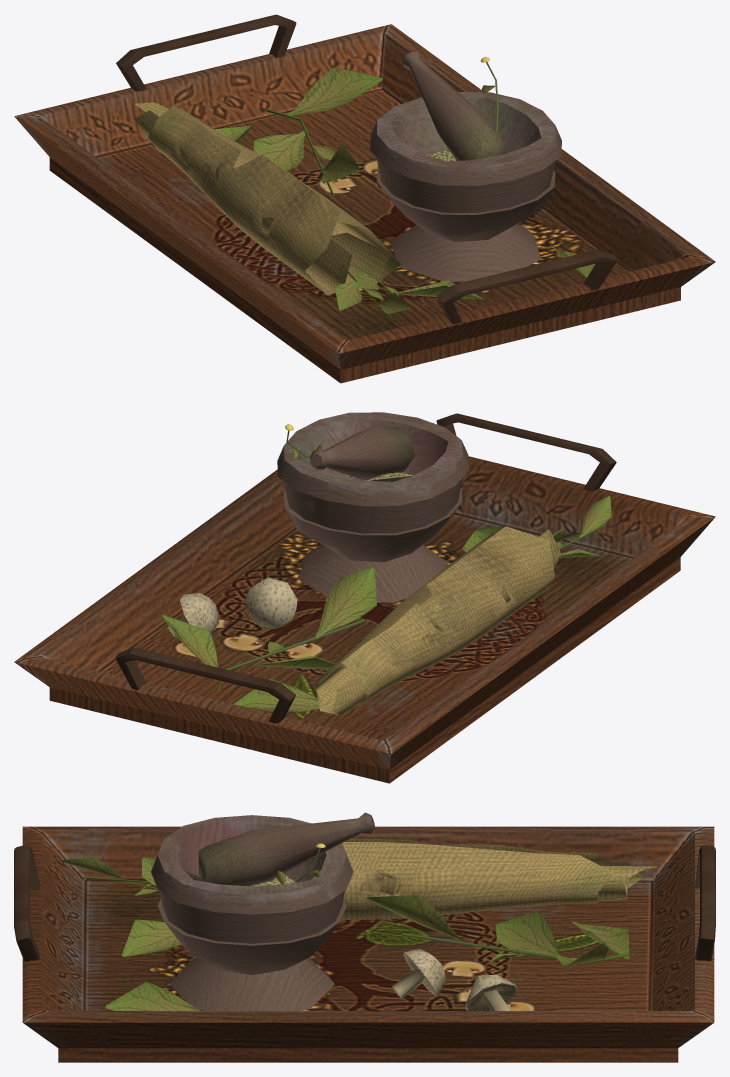
File: morter-draco.glb
3 views of the same model, one above another, from view 1: azimuth 30°, elevation 25°; view 2: azimuth 150°, elevation 25°; view 3: azimuth 270°, elevation 25° (orthographic). The views are drawn at different scales.
Parts seen in each view (by area): view 1: pCube13; view 2: pCube13; view 3: pCube13.
Boxes of the visible parts, x1,y1,x2,y2 form: pCube13: [14, 14, 715, 383]; pCube13: [14, 412, 715, 783]; pCube13: [14, 812, 715, 1062].
Bounding box in the file's own units: 1.79 × 0.784 × 2.7.
2 materials, 2 textured.
